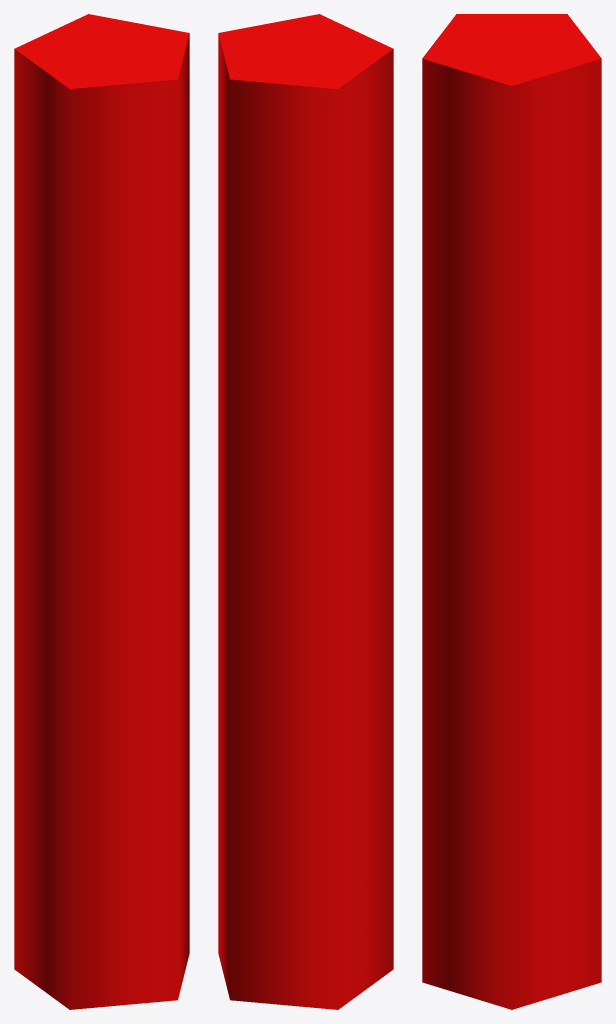
The model's file is pilar5.FBX.
The picture shows the model from 3 angles, left to right: view 1: azimuth 30°, elevation 25°; view 2: azimuth 150°, elevation 25°; view 3: azimuth 270°, elevation 25°; orthographic projection.
Parts seen in each view (by area): view 1: Cylinder002; view 2: Cylinder002; view 3: Cylinder002.
Part boxes in pixels (x1,y1,x2,y2): Cylinder002: (14, 14, 189, 1009); Cylinder002: (218, 14, 393, 1009); Cylinder002: (422, 14, 601, 1009).
Size of the model in its own units: 4.52 by 27 by 4.76.
